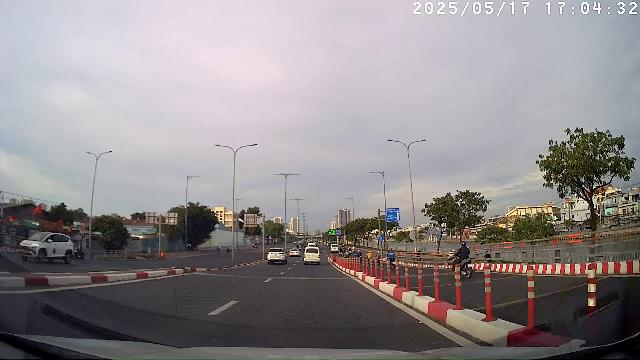301a-cac-xe-chi-duoc-di-thang: (378, 236, 384, 242)
